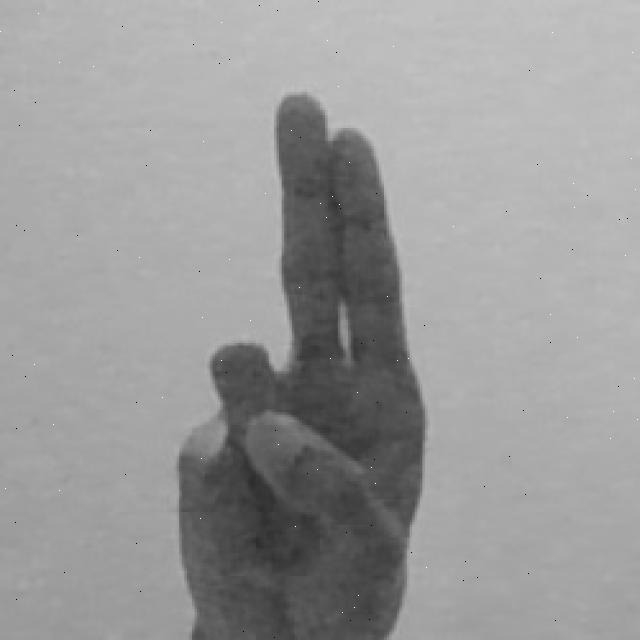U: (168, 82, 435, 640)
